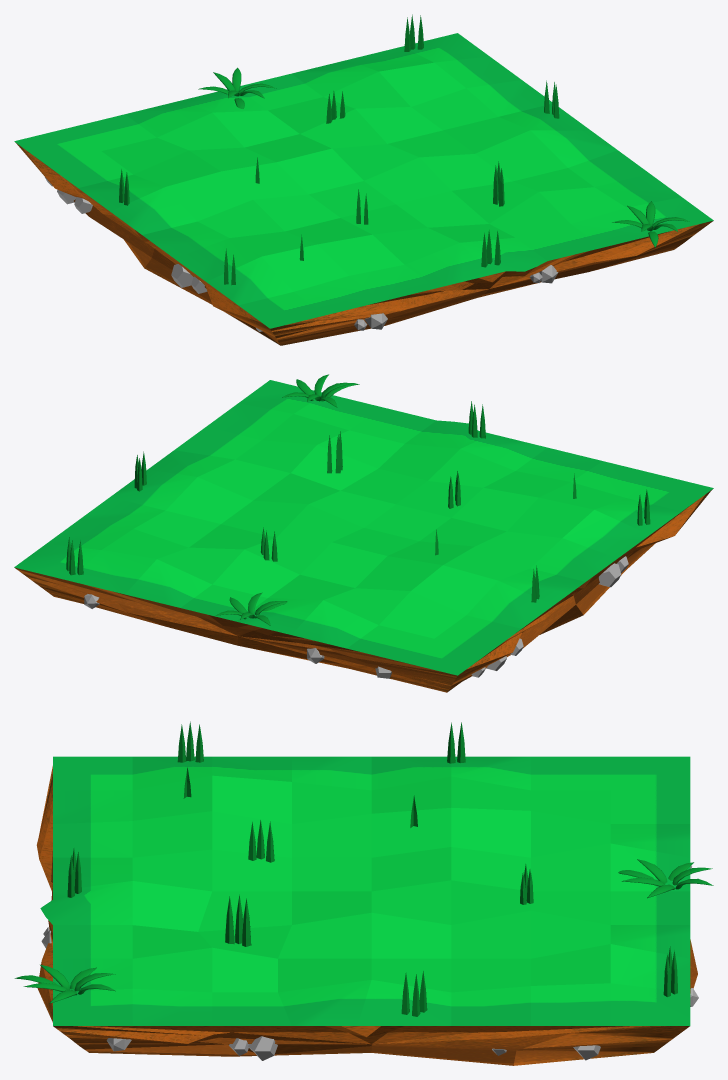
The model's file is grassvariation1.fbx.
The picture shows the model from 3 angles, top to bottom: view 1: azimuth 30°, elevation 25°; view 2: azimuth 150°, elevation 25°; view 3: azimuth 270°, elevation 25°; orthographic projection. The views are drawn at different scales.
Parts seen in each view (by area): view 1: pCube1, GrassesGRPpolySurface482, GrassesGRPpolySurface493; view 2: pCube1, GrassesGRPpolySurface482, GrassesGRPpolySurface493; view 3: pCube1, GrassesGRPpolySurface482, GrassesGRPpolySurface493, group4.
Part boxes in pixels (x1,y1,x2,y2): pCube1: (14,33,713,345); GrassesGRPpolySurface482: (612,201,689,247); GrassesGRPpolySurface493: (198,67,276,108); pCube1: (14,380,713,692); GrassesGRPpolySurface482: (282,374,359,407); GrassesGRPpolySurface493: (216,592,287,625); pCube1: (36,756,697,1065); GrassesGRPpolySurface482: (14,964,115,1003); GrassesGRPpolySurface493: (618,859,713,898); group4: (183,767,417,859).
Size of the model in its own units: 101 by 14.79 by 108.
Materials: 5 (3 with a texture image).
